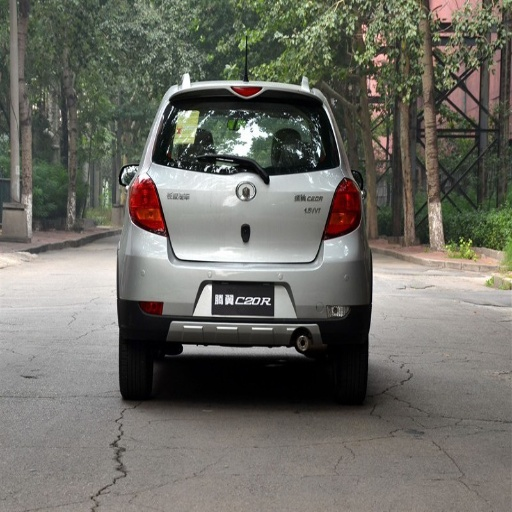back_bumper: (119, 222, 372, 350)
trunk: (149, 165, 344, 267)
